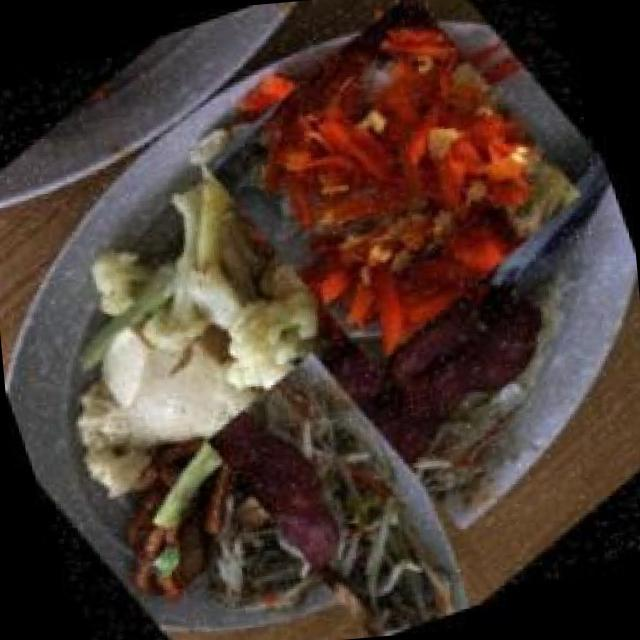carrot_eggs: (167, 0, 620, 405)
chinese_sausage: (221, 220, 605, 542)
mung_bean_sprouts: (167, 323, 537, 640)
